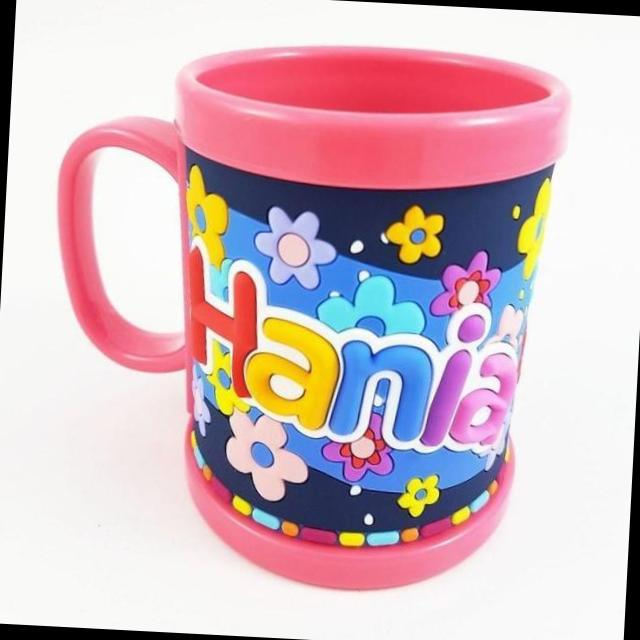Coffee Mug: (38, 32, 574, 602)
